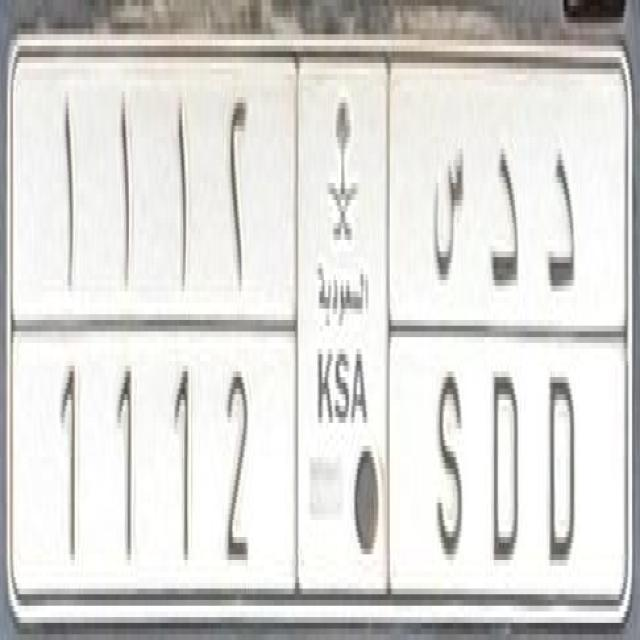license_plate: (6, 37, 634, 622)
